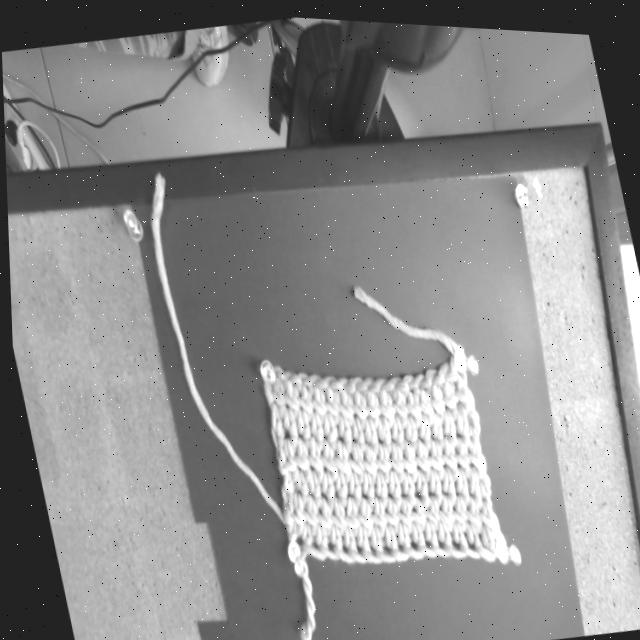ch: (414, 364, 437, 382), (338, 372, 359, 390), (429, 357, 445, 380), (377, 372, 399, 386), (310, 372, 333, 385), (364, 374, 385, 388), (390, 370, 411, 384), (403, 369, 423, 383), (351, 373, 372, 386), (285, 370, 307, 382), (324, 374, 347, 385), (273, 367, 294, 378), (300, 371, 319, 382)
hdc: (433, 515, 464, 554), (447, 516, 477, 552), (462, 517, 490, 555), (297, 518, 322, 557), (325, 521, 350, 559), (408, 516, 434, 552), (353, 521, 377, 559), (394, 517, 418, 554), (381, 519, 405, 555), (420, 514, 443, 551), (339, 522, 362, 559), (311, 520, 335, 555), (366, 520, 389, 556), (290, 433, 307, 481), (304, 432, 321, 480), (316, 434, 334, 479), (437, 431, 454, 475), (278, 434, 295, 478), (366, 489, 383, 533), (345, 435, 361, 481), (331, 434, 347, 479), (279, 404, 295, 448), (374, 384, 392, 423), (326, 492, 344, 531), (423, 434, 440, 475), (268, 373, 284, 416), (340, 492, 357, 532), (411, 434, 427, 476), (451, 396, 466, 440), (399, 434, 414, 478), (336, 382, 352, 423), (353, 492, 369, 533), (435, 488, 452, 526), (320, 408, 335, 451), (268, 398, 282, 443), (438, 460, 453, 502), (299, 490, 314, 532), (389, 385, 405, 424), (313, 493, 329, 532), (379, 490, 395, 529), (395, 490, 411, 529), (288, 486, 302, 530), (322, 382, 338, 420), (362, 387, 378, 425), (448, 489, 464, 527), (476, 494, 492, 532), (295, 379, 310, 419), (310, 381, 325, 420), (403, 383, 418, 422), (415, 383, 430, 422), (427, 377, 442, 416), (452, 433, 467, 472), (420, 490, 437, 524), (293, 405, 307, 446), (335, 409, 349, 450), (360, 438, 374, 479), (373, 437, 387, 478), (386, 437, 400, 478), (412, 463, 426, 504), (292, 462, 306, 503), (439, 376, 454, 414), (440, 400, 453, 443), (318, 465, 331, 508), (274, 463, 289, 500), (463, 490, 478, 527), (282, 376, 296, 415), (308, 406, 321, 448), (361, 412, 375, 451), (427, 403, 440, 445), (425, 463, 439, 502), (414, 408, 427, 449), (465, 462, 478, 503), (351, 387, 365, 425), (374, 410, 388, 448), (384, 466, 398, 504), (406, 492, 422, 525), (464, 435, 479, 470), (400, 411, 414, 448), (452, 461, 465, 500), (305, 465, 318, 504), (348, 411, 362, 447), (387, 410, 401, 446), (398, 465, 411, 503), (371, 465, 384, 503), (345, 467, 358, 505), (331, 465, 344, 503), (359, 466, 371, 507), (477, 519, 493, 549)
